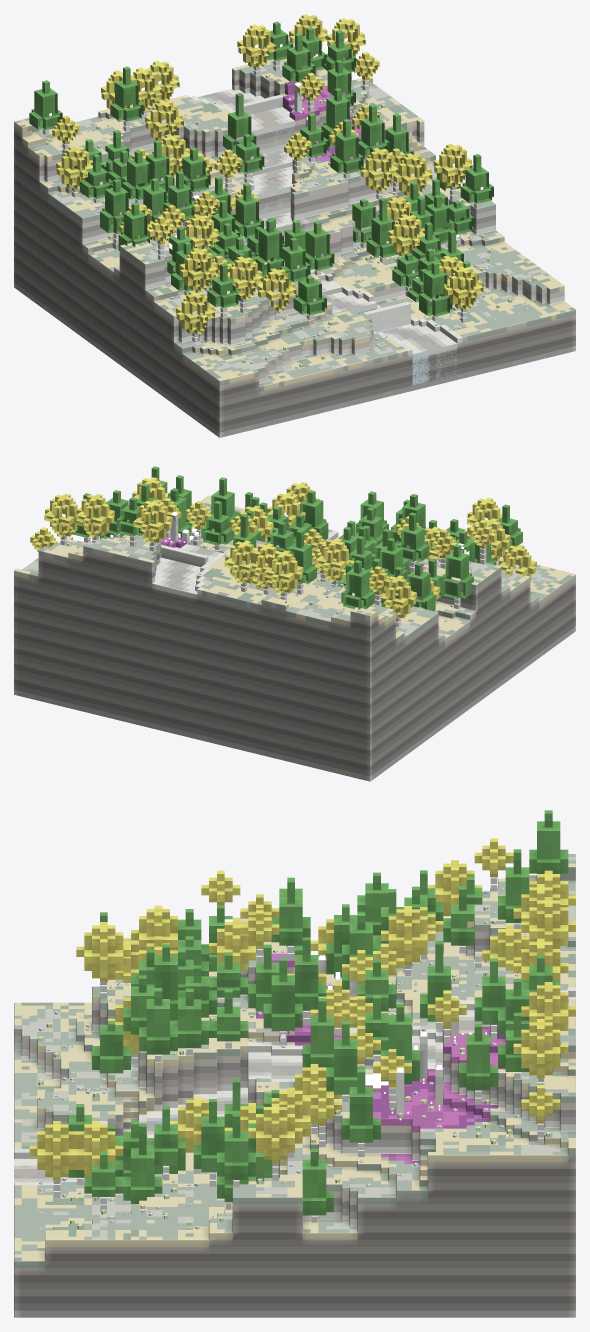
Rendered from meadow.glb.
The picture shows the model from 3 angles, top to bottom: view 1: azimuth 30°, elevation 25°; view 2: azimuth 150°, elevation 25°; view 3: azimuth 270°, elevation 25°; orthographic projection. The views are drawn at different scales.
Visible parts, largest first — view 1: terrain, props, water_surface, fall_water; view 2: terrain, props, water_surface; view 3: terrain, props, water_surface.
Part boxes in pixels (bbox=[...]): terrain: bbox=[14, 59, 575, 437]; props: bbox=[29, 14, 536, 368]; water_surface: bbox=[197, 89, 456, 354]; fall_water: bbox=[251, 121, 457, 385]; terrain: bbox=[14, 495, 575, 781]; props: bbox=[30, 466, 544, 626]; water_surface: bbox=[153, 536, 339, 593]; terrain: bbox=[14, 854, 575, 1317]; props: bbox=[29, 810, 575, 1230]; water_surface: bbox=[14, 997, 575, 1182].
Bounding box in the file's own units: 72 × 41 × 72.
